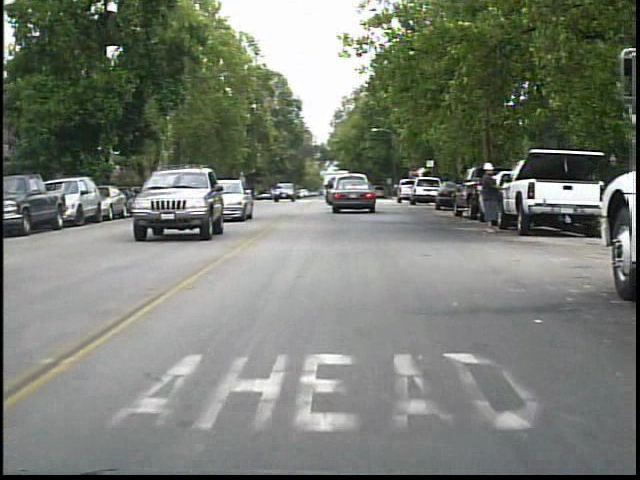person: (476, 159, 508, 237)
